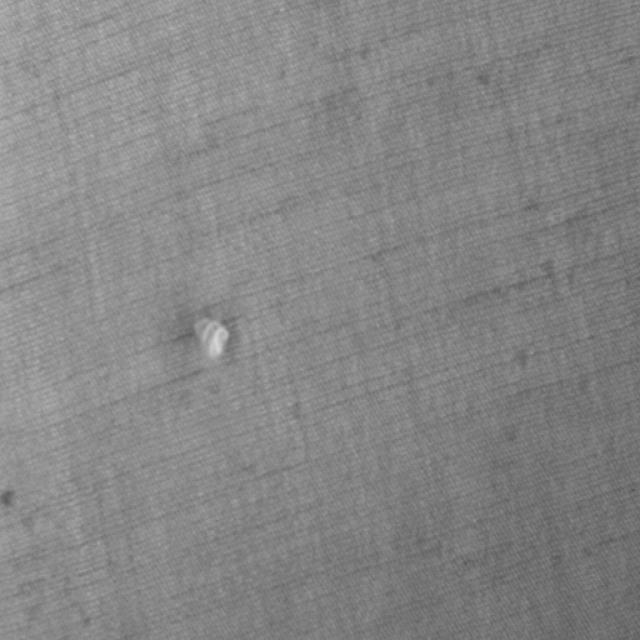objects: (192, 313, 232, 367)
